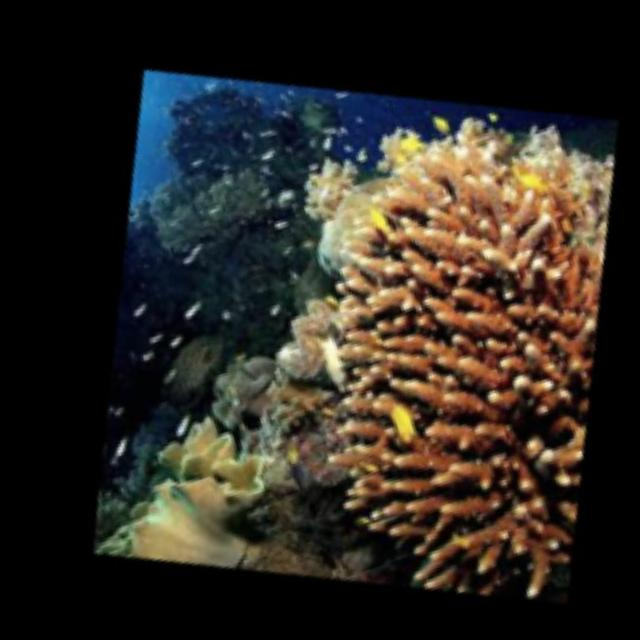Dead Coral: (89, 51, 344, 317)
